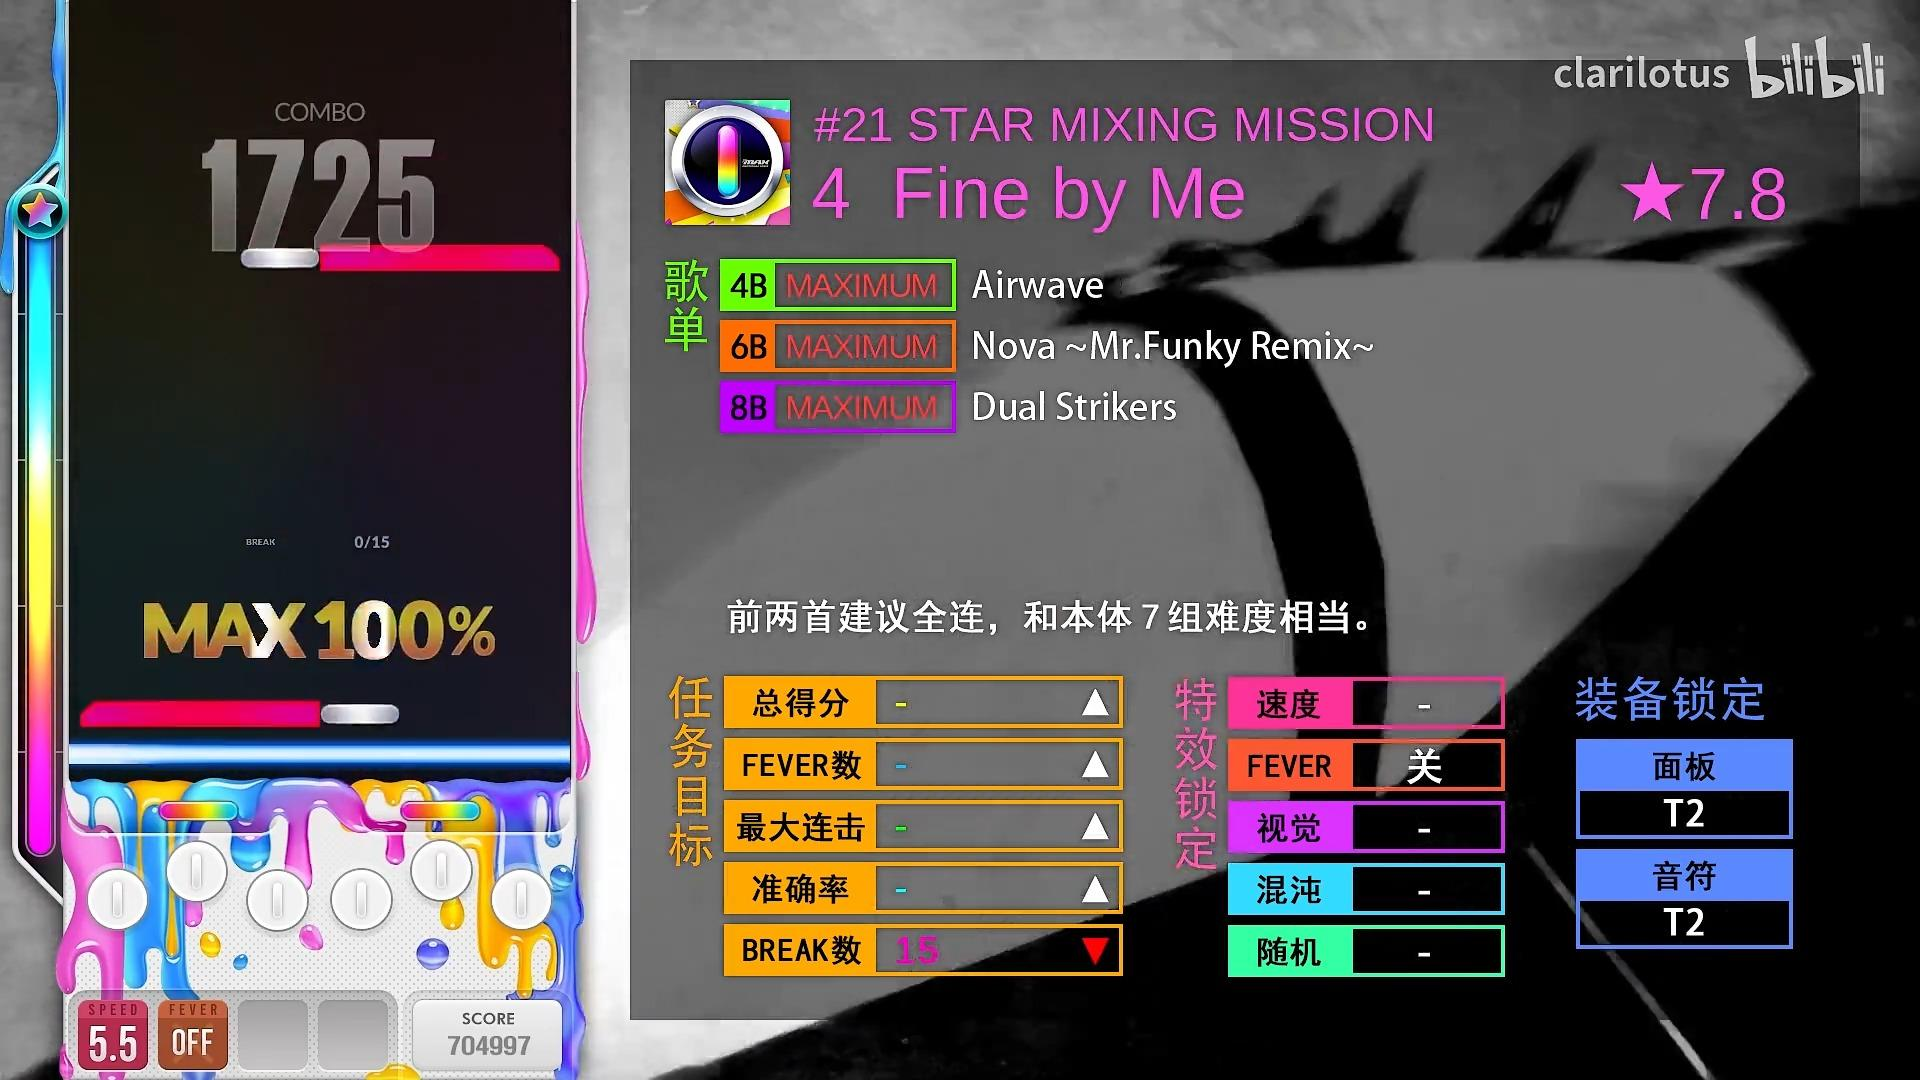note: (240, 248, 319, 268), (320, 704, 400, 724)
xnote: (320, 244, 560, 272), (80, 702, 319, 725)
